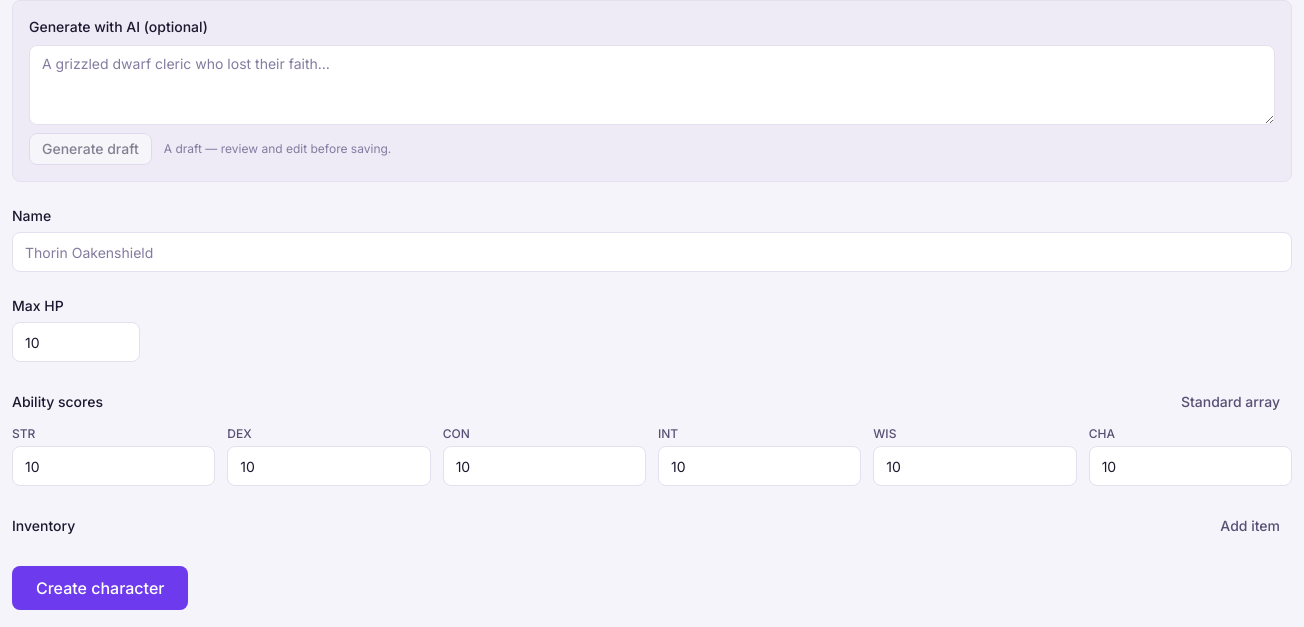
CharacterCreationForm › fills the ability scores from the standard array button
Click the button "Standard array".
click(1230, 402)  # box [1169,386,1292,418]
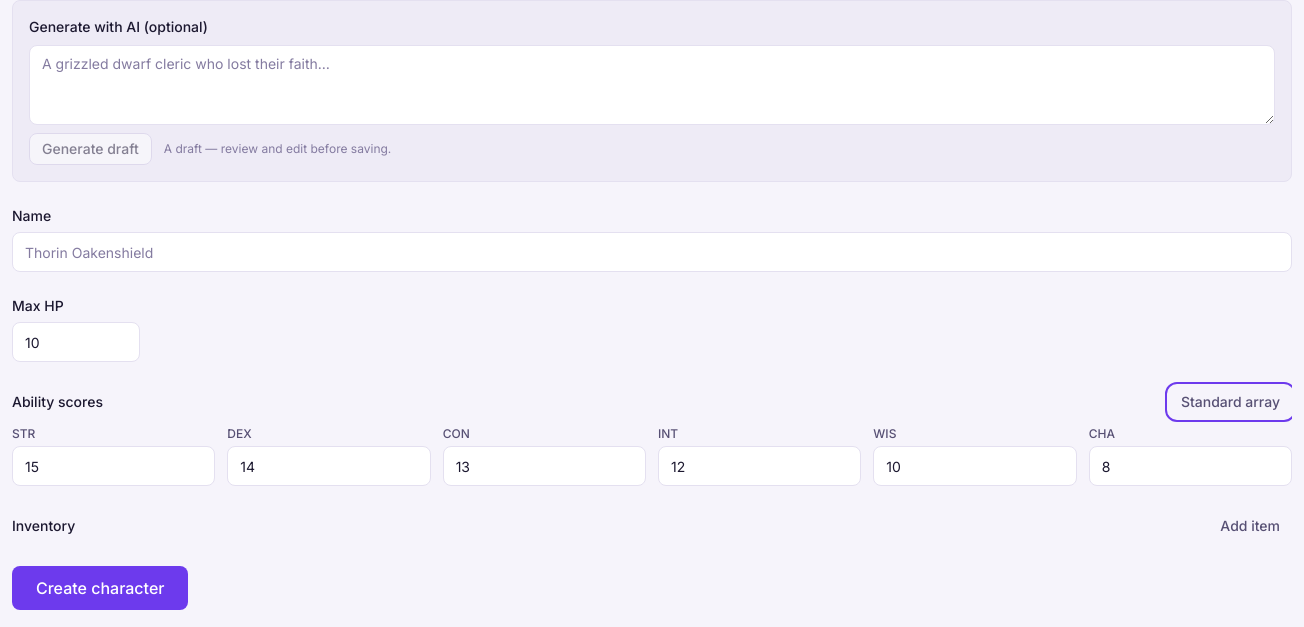
Expected: the number field labelled "STR" holds "15", [12,446,215,486]
Expected: the number field labelled "CHA" holds "8", [1089,446,1292,486]
